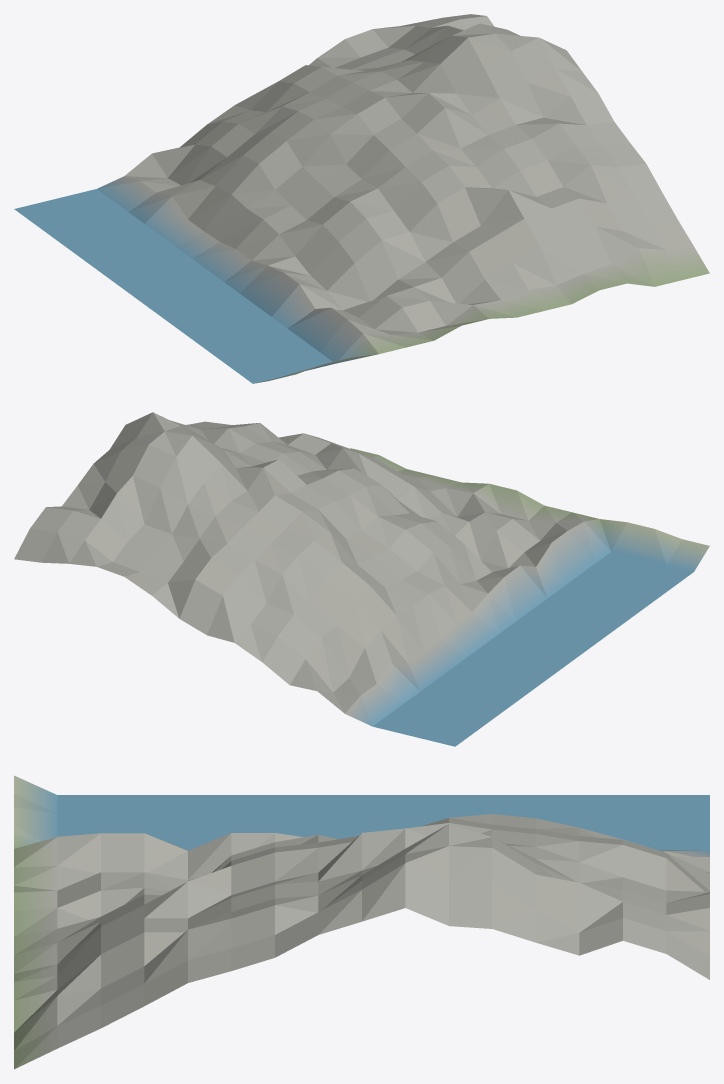
3 renders of one model, top to bottom at view 1: azimuth 30°, elevation 25°; view 2: azimuth 150°, elevation 25°; view 3: azimuth 270°, elevation 25°, orthographic. The views are drawn at different scales.
Size of the model in its own units: 32 by 10.66 by 32.
